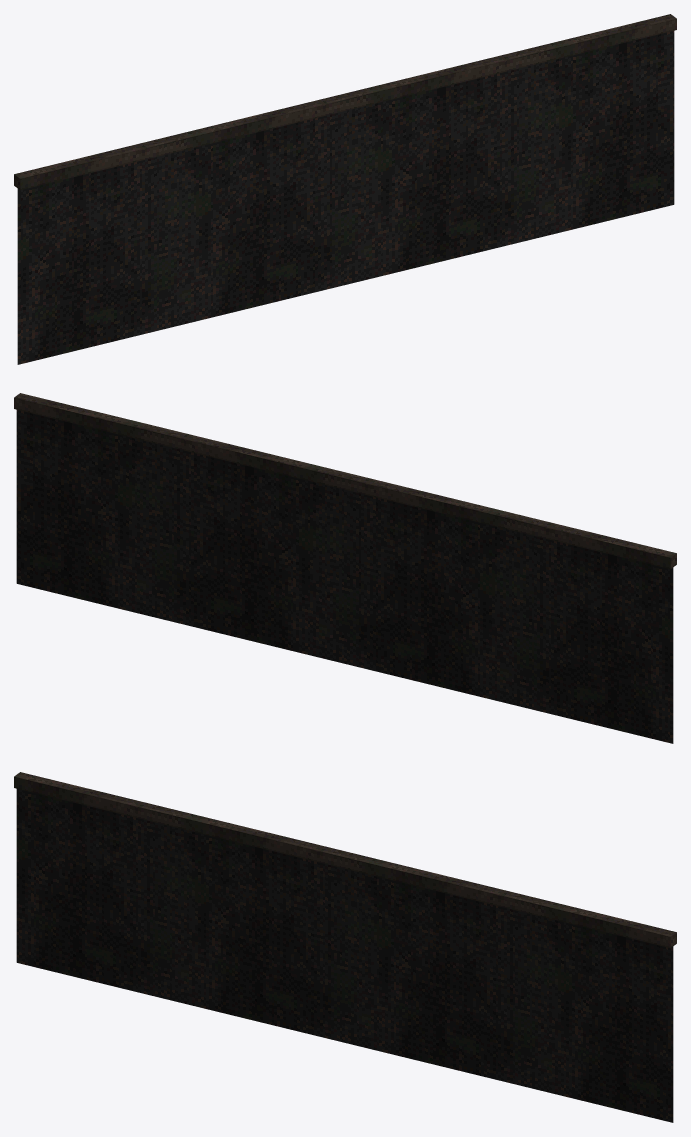
File: stair_u_rail_back.gltf
3 views of the same model, one above another, from view 1: azimuth 30°, elevation 25°; view 2: azimuth 150°, elevation 25°; view 3: azimuth 330°, elevation 25° (orthographic).
Visible parts, largest first — view 1: stair_u_rail_back; view 2: stair_u_rail_back; view 3: stair_u_rail_back.
Boxes of the visible parts, x1=… form: stair_u_rail_back: x1=14, y1=14, x2=676, y2=364; stair_u_rail_back: x1=14, y1=393, x2=676, y2=743; stair_u_rail_back: x1=14, y1=772, x2=676, y2=1122.
Size of what is drawn, in the model's own units: 3.62 by 0.99 by 0.06.
Materials: 2 (2 with a texture image).
